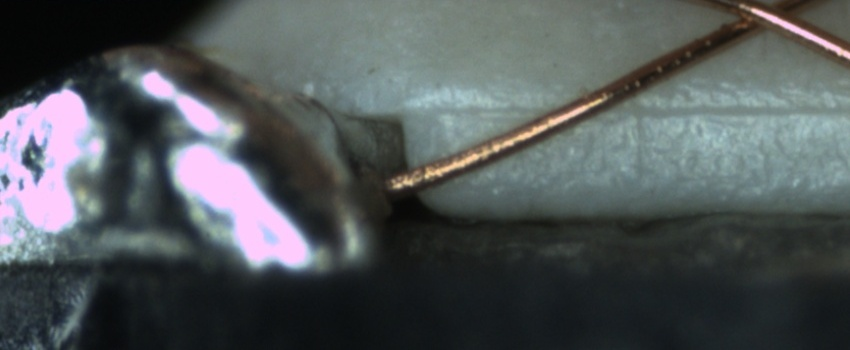CL: (712, 0, 827, 41)
DL: (429, 77, 850, 145)
